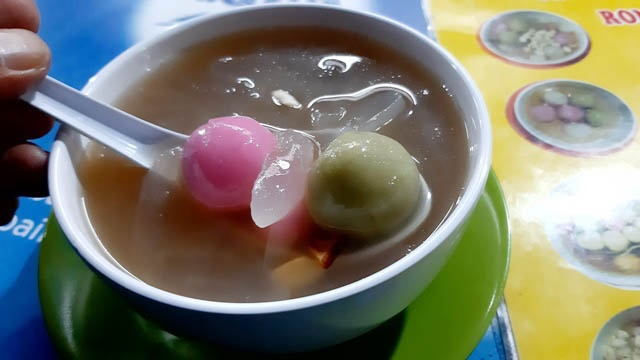ronde: (180, 116, 422, 240)
